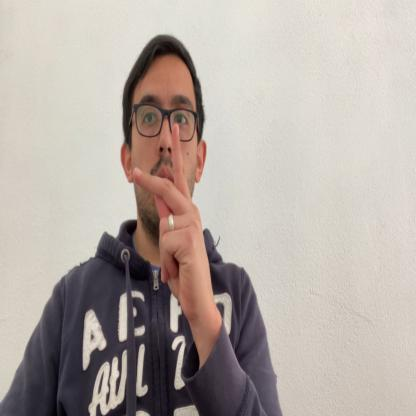P: (134, 122, 212, 316)
